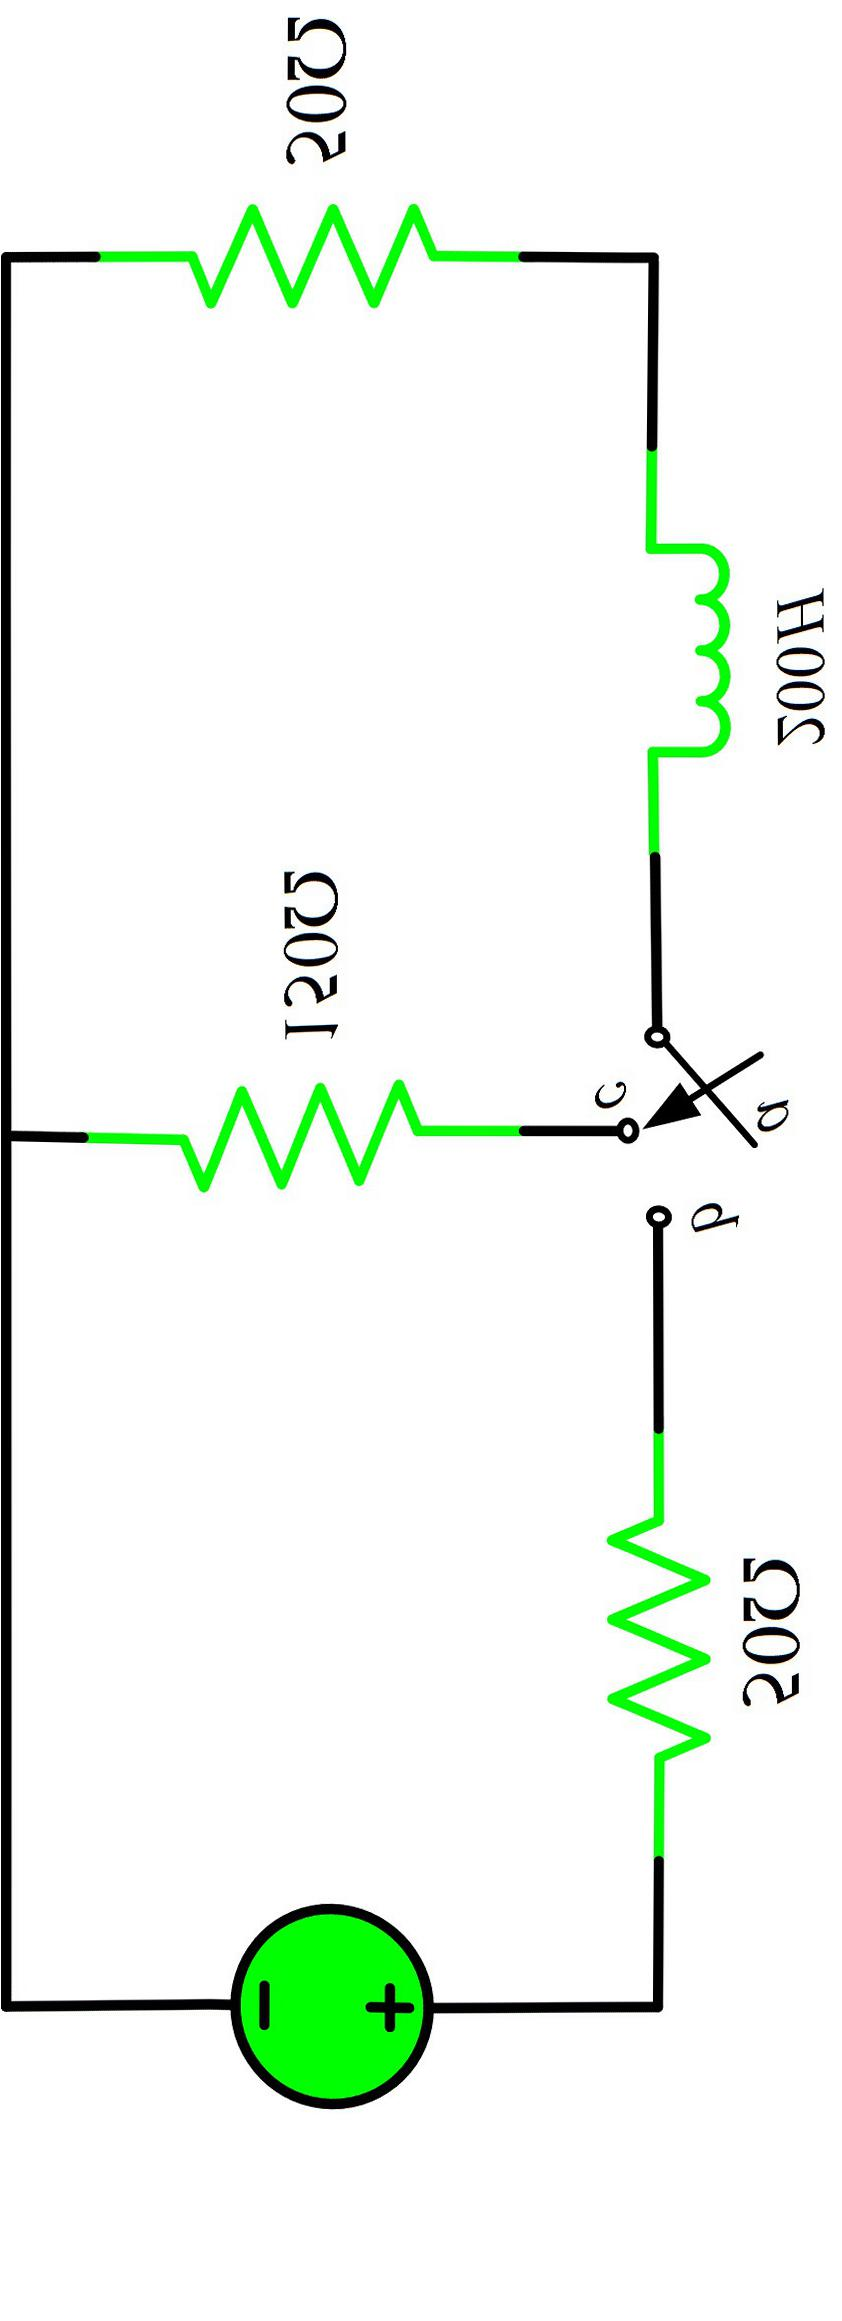Battery: (163, 1855, 488, 2169)
